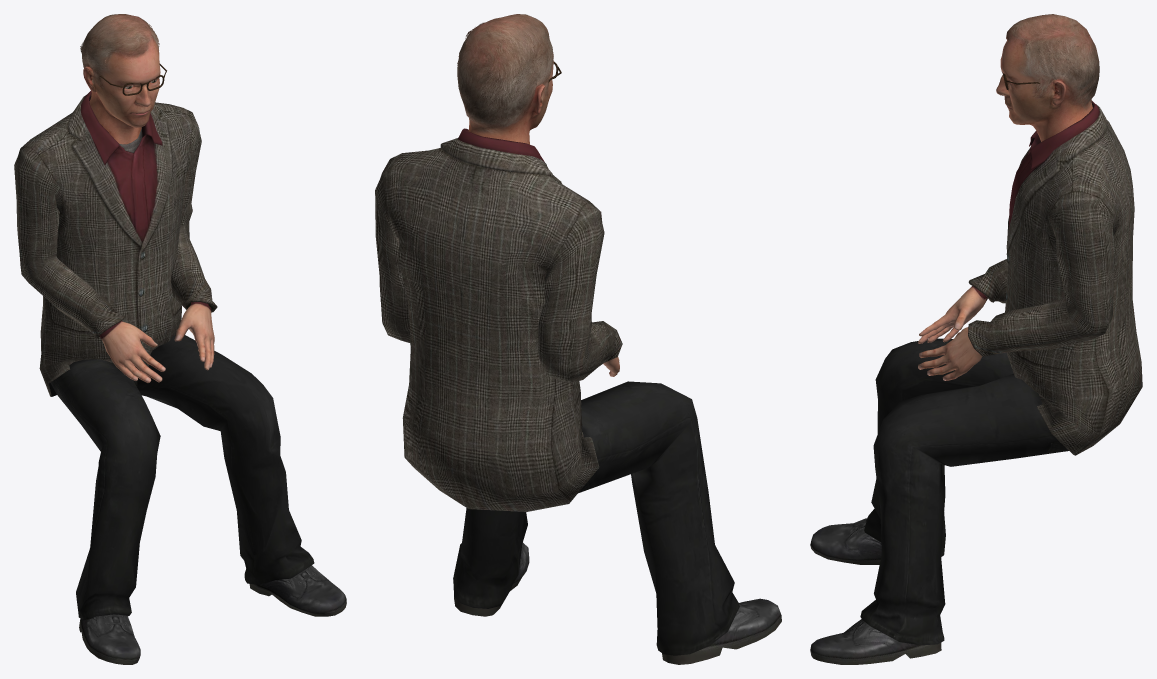
Rendered from professor-seated.glb.
3 renders of one model, left to right at view 1: azimuth 30°, elevation 25°; view 2: azimuth 150°, elevation 25°; view 3: azimuth 270°, elevation 25°, orthographic. The views are drawn at different scales.
Visible parts, largest first — view 1: professor-mesh; view 2: professor-mesh; view 3: professor-mesh.
Boxes of the visible parts, x1,y1,x2,y2 form: professor-mesh: [14, 14, 346, 664]; professor-mesh: [375, 14, 781, 664]; professor-mesh: [810, 14, 1142, 664].
Bounding box in the file's own units: 0.6763 × 1.44 × 0.7392.
Materials: 4 (3 with a texture image).
